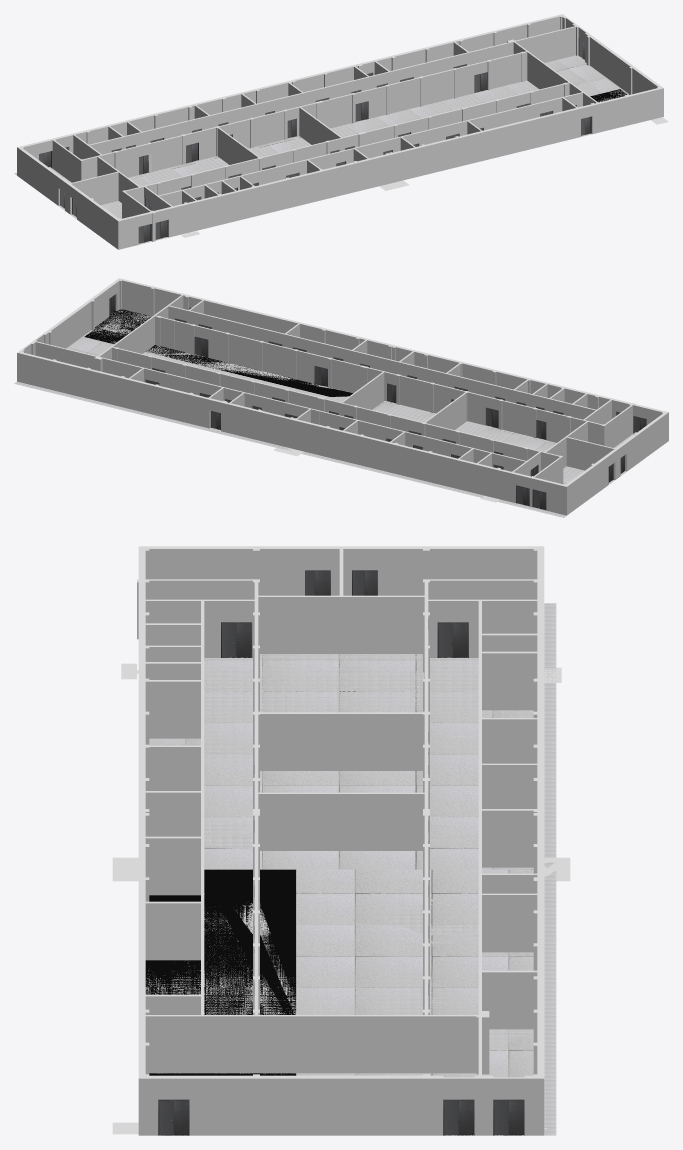
File: Room9.obj
The picture shows the model from 3 angles, top to bottom: view 1: azimuth 30°, elevation 25°; view 2: azimuth 150°, elevation 25°; view 3: azimuth 270°, elevation 25°; orthographic projection. The views are drawn at different scales.
Visible parts, largest first — view 1: Room9; view 2: Room9; view 3: Room9.
Part boxes in pixels (x1=…): Room9: x1=14, y1=14, x2=668, y2=249; Room9: x1=14, y1=278, x2=668, y2=517; Room9: x1=112, y1=546, x2=570, y2=1135.
Size of the model in its own units: 72.4 by 3.62 by 26.29.
Materials: 1 (1 with a texture image).
